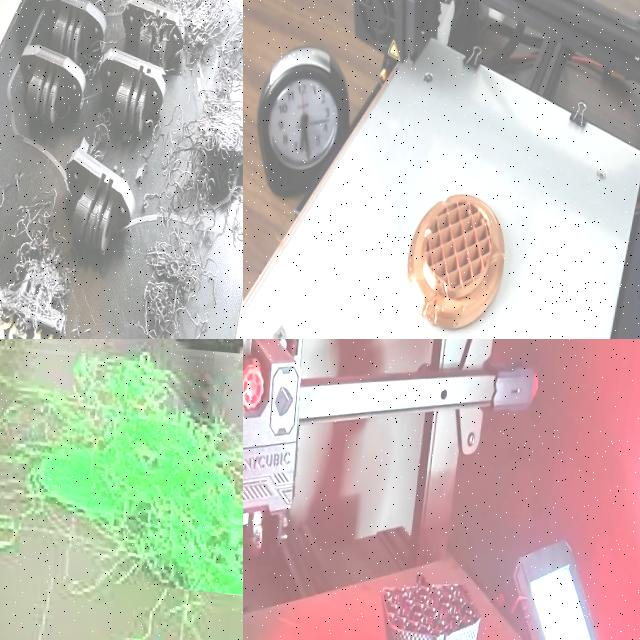spaghetti: (33, 369, 243, 594), (0, 175, 92, 339), (131, 207, 235, 339), (158, 80, 243, 233), (106, 0, 243, 84), (0, 128, 23, 224)
